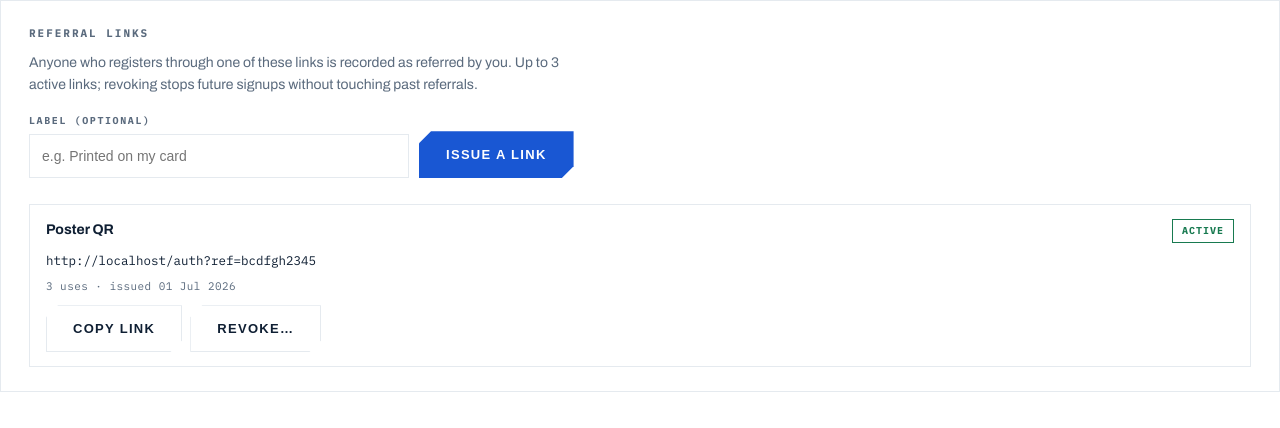
ReferralLinksCard — unlocked › revoke is two-step: cancel posts nothing; confirm posts the linkId
What coordinates should you click on to do the following:
click the button with test id "reflink-revoke"
I would click on:
 (256, 329)
Its box is [190, 305, 321, 352].
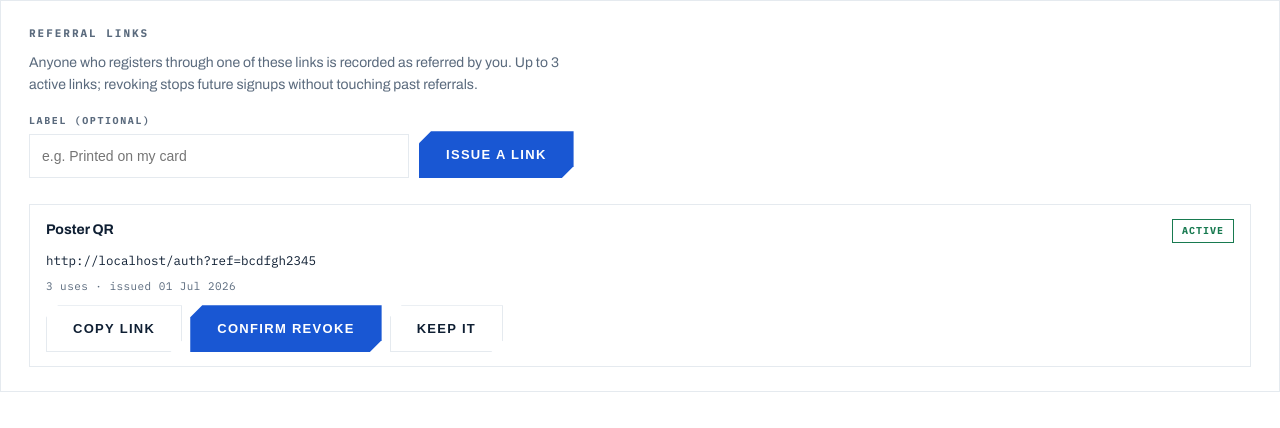
What coordinates should you click on to do the following:
click the button with test id "reflink-revoke-cancel"
I would click on:
 (446, 329)
Its box is [390, 305, 503, 352].
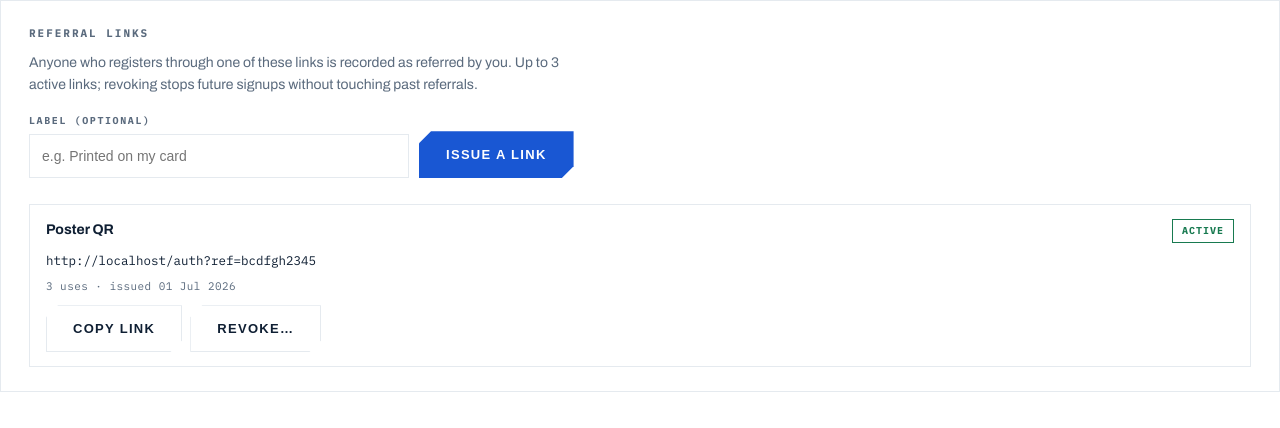
Expected: the button with test id "reflink-revoke-confirm" is gone
Note: Step 2 → confirm fires the revoke with the link id.
What coordinates should you click on to do the following:
click the button with test id "reflink-revoke"
I would click on:
 (256, 329)
Its box is [190, 305, 321, 352].
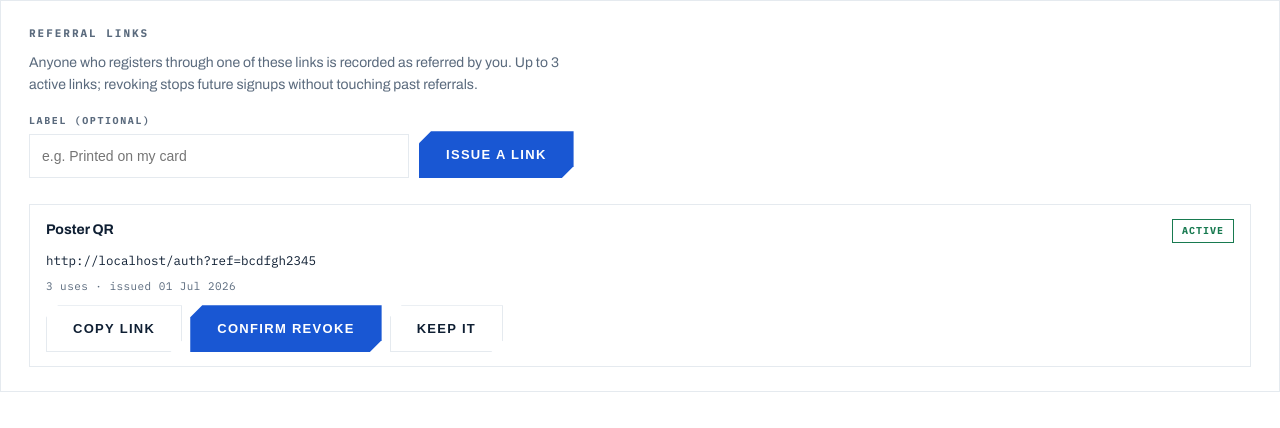
What coordinates should you click on to do the following:
click the button with test id "reflink-revoke-confirm"
I would click on:
 (286, 329)
Its box is [190, 305, 382, 352].
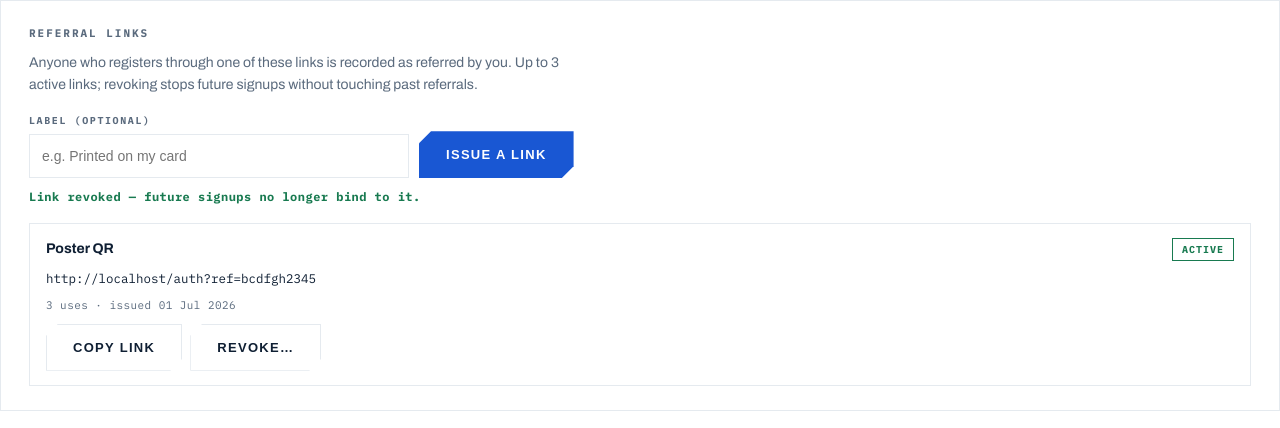
Expected: the element with test id "reflinks-status" shows "revoked", [29, 189, 421, 204]
